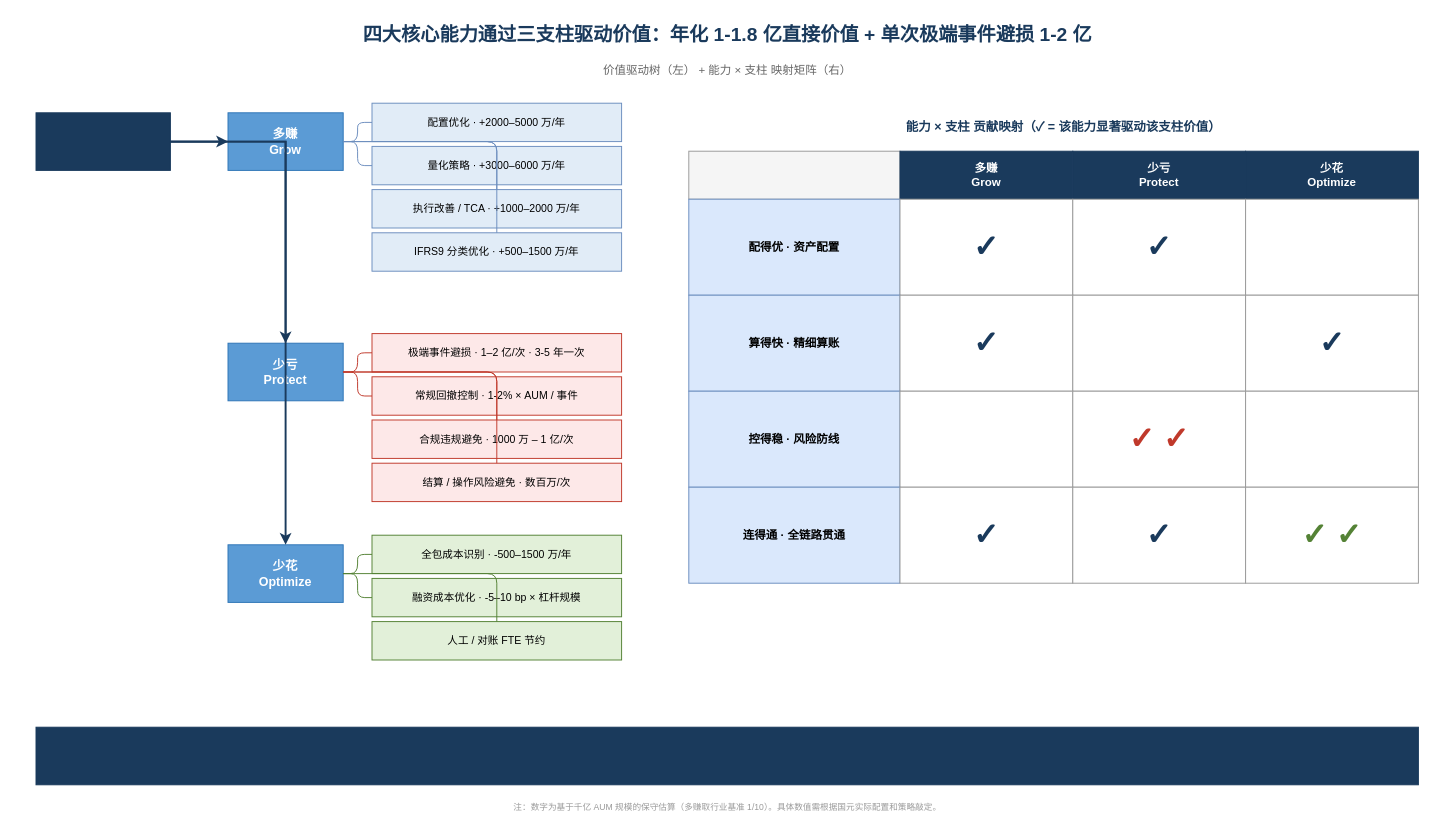
The diagram is 1453 pixels wide and 831 high, and some of its shapes have lost their labels. The shapes that lost their labels are listed below. From the top down, each one's centre as x and y in pixels, then its label:
At point 102,141: "自营总价值".
At point 726,755: "CEO 价值一行话：年化多赚 1-1.8 亿 + 单次避损 1-2 亿 + 年化少花 数千万".
